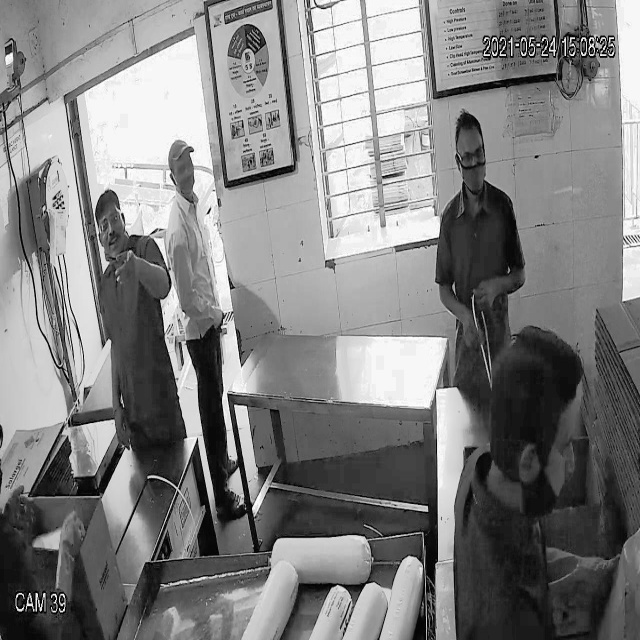Gafas: (452, 141, 490, 175), (93, 211, 128, 235)
